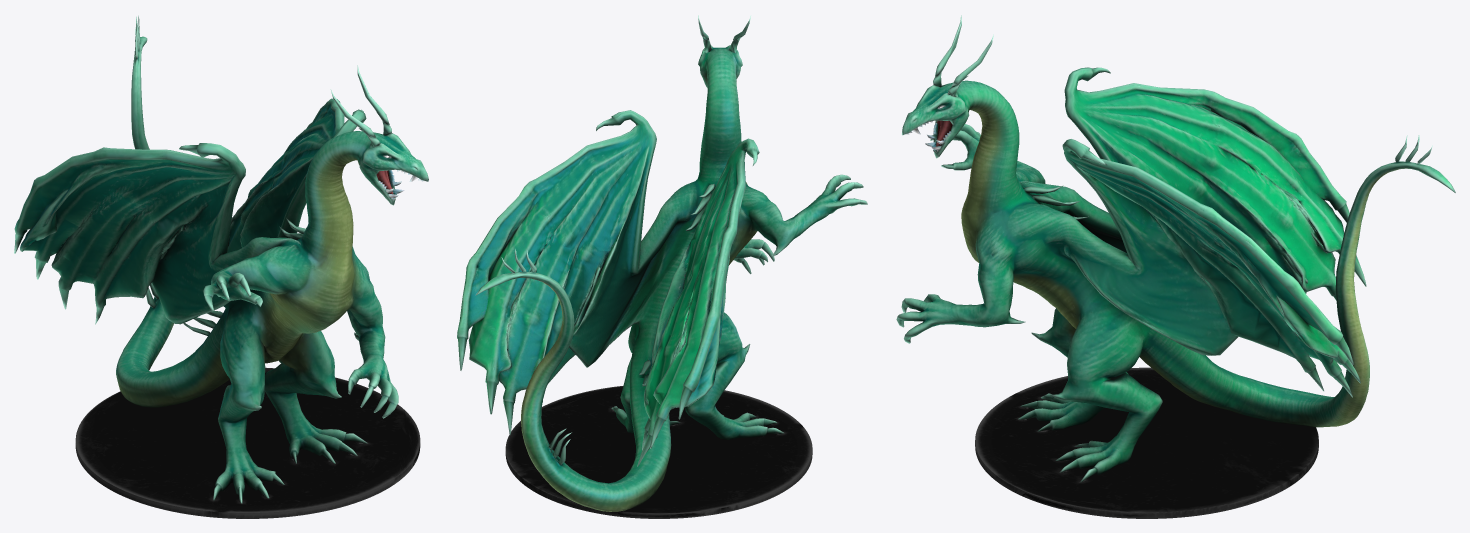
Rendered from MZ4250 - Dragon Emerald.glb.
3 renders of one model, left to right at view 1: azimuth 30°, elevation 25°; view 2: azimuth 150°, elevation 25°; view 3: azimuth 270°, elevation 25°, orthographic. The views are drawn at different scales.
Parts seen in each view (by area): view 1: body_low.001, base_low.001; view 2: body_low.001, base_low.001; view 3: body_low.001, base_low.001.
Boxes of the visible parts, x1,y1,x2,y2 form: body_low.001: (14,15,428,503); base_low.001: (75,367,420,518); body_low.001: (457,15,867,511); base_low.001: (505,386,812,518); body_low.001: (896,15,1455,482); base_low.001: (975,367,1318,518).
Bounding box in the file's own units: 4.71 × 6.48 × 7.65.
Materials: 1 (1 with a texture image).
